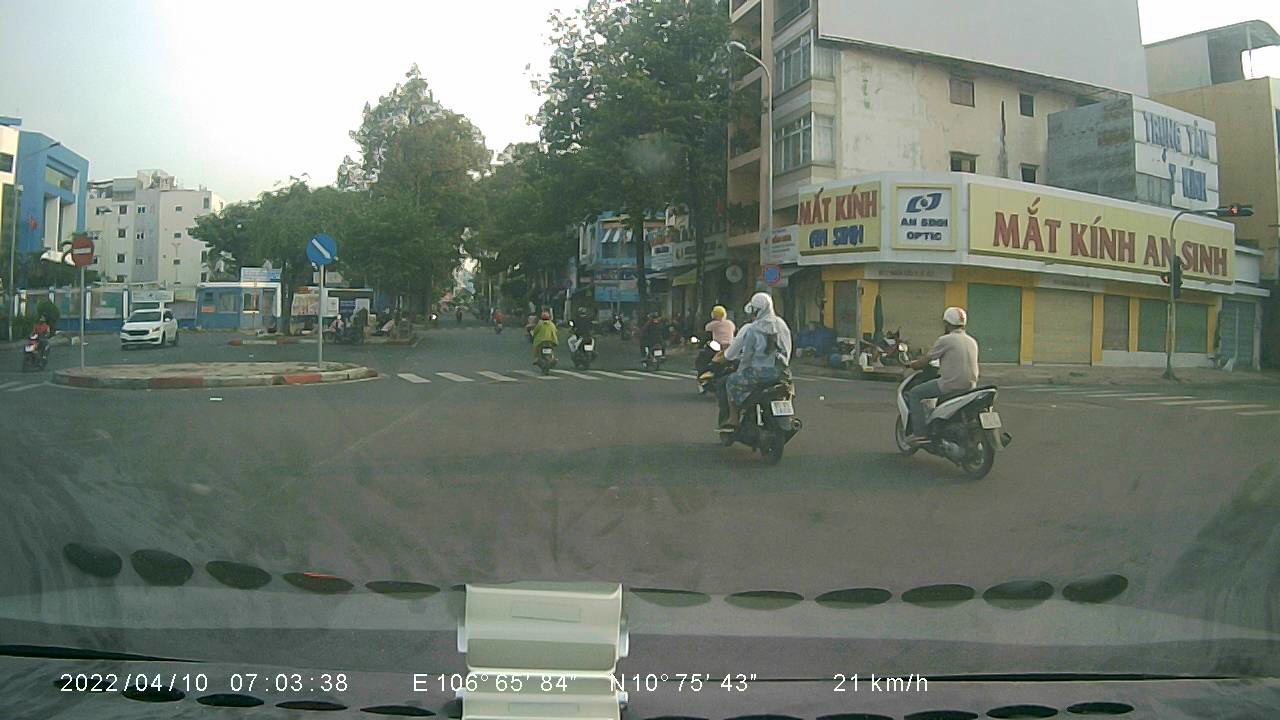Cam di nguoc chieu: (70, 233, 99, 268)
Cam do xe: (760, 258, 784, 283)
Huong di phai re phai: (303, 232, 340, 269)
